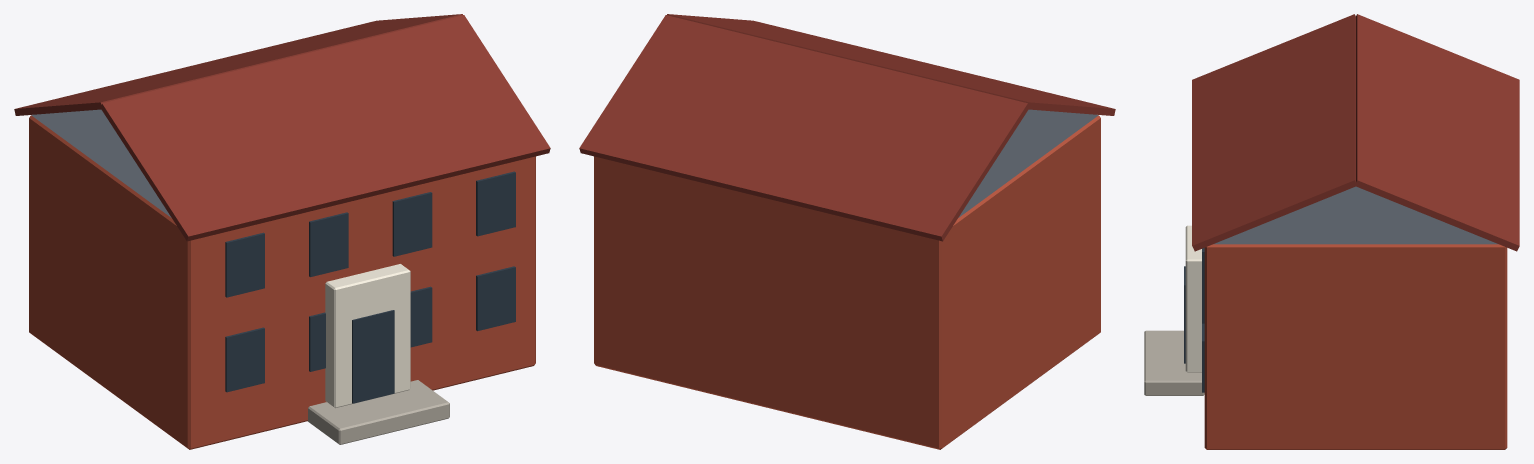
Rendered from hall_s.fbx.
3 renders of one model, left to right at view 1: azimuth 30°, elevation 25°; view 2: azimuth 150°, elevation 25°; view 3: azimuth 270°, elevation 25°, orthographic. The views are drawn at different scales.
Visible parts, largest first — view 1: hall_s; view 2: hall_s; view 3: hall_s.
Boxes of the visible parts, x1,y1,x2,y2 form: hall_s: [14, 14, 550, 449]; hall_s: [579, 14, 1115, 449]; hall_s: [1144, 14, 1519, 449].
Size of the model in its own units: 10.4 by 7.99 by 9.93.
